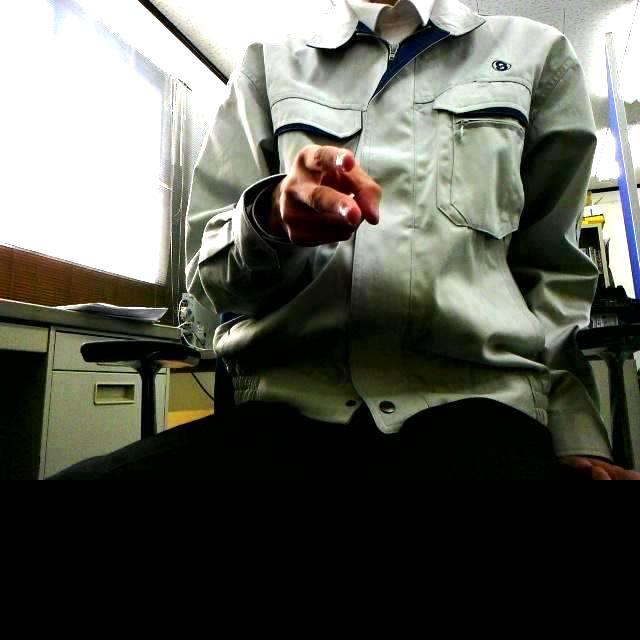tyoki: (278, 144, 383, 248)
